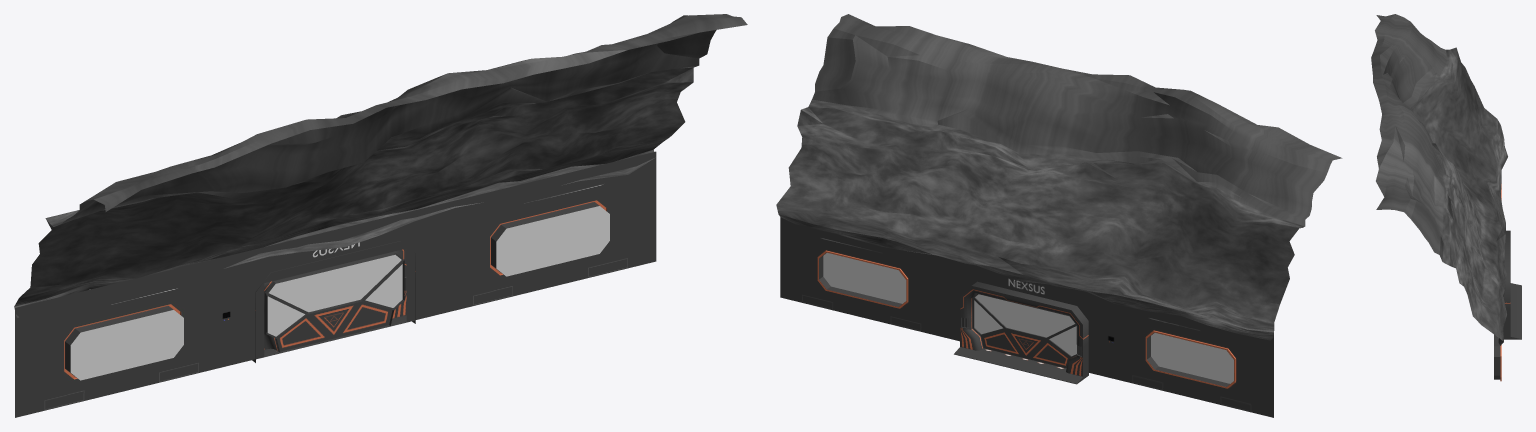
The model's file is Nexsus.fbx.
3 renders of one model, left to right at view 1: azimuth 30°, elevation 25°; view 2: azimuth 150°, elevation 25°; view 3: azimuth 270°, elevation 25°, orthographic. The views are drawn at different scales.
Parts seen in each view (by area): view 1: Rock_lp, Wall_lp, Windows_lp, DoorDown_lp, Frame_lp, DoorTop_lp; view 2: Rock_lp, Wall_lp, Windows_lp, Frame_lp, DoorDown_lp; view 3: Rock_lp, Frame_lp, Wall_lp.
Part boxes in pixels (x1,y1,x2,y2): Rock_lp: (14, 14, 747, 317); Wall_lp: (15, 151, 656, 417); Windows_lp: (70, 206, 609, 380); DoorDown_lp: (275, 300, 394, 352); Frame_lp: (252, 241, 415, 362); DoorTop_lp: (265, 252, 403, 313); Rock_lp: (776, 14, 1342, 340); Wall_lp: (780, 217, 1273, 417); Windows_lp: (823, 253, 1233, 383); Frame_lp: (954, 281, 1088, 384); DoorDown_lp: (981, 329, 1070, 368); Rock_lp: (1371, 14, 1507, 345); Frame_lp: (1503, 230, 1521, 339); Wall_lp: (1494, 184, 1501, 381).
Size of the model in its own units: 2450 by 1135 by 711.
2 materials, 2 textured.
